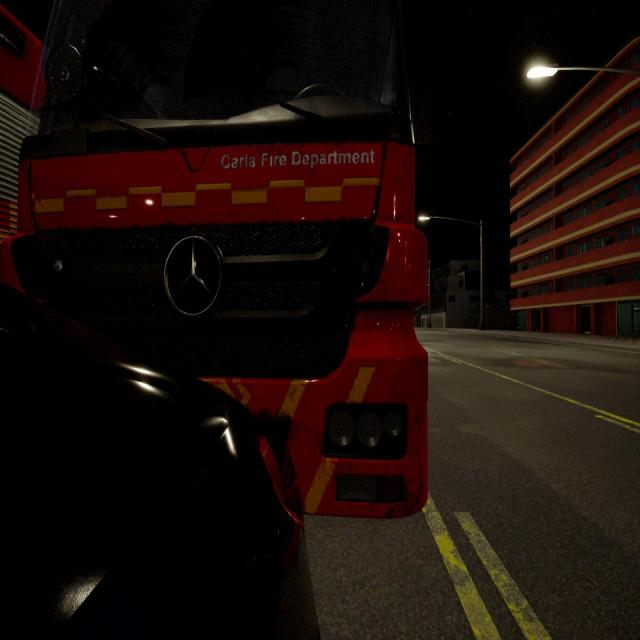Vehicle: (19, 2, 425, 512), (0, 285, 314, 640), (0, 4, 39, 236)
